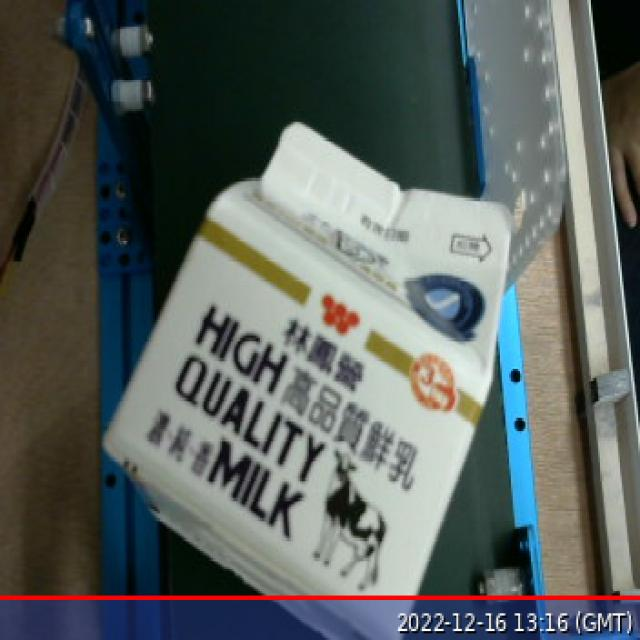non_white_jug: (70, 104, 541, 639)
